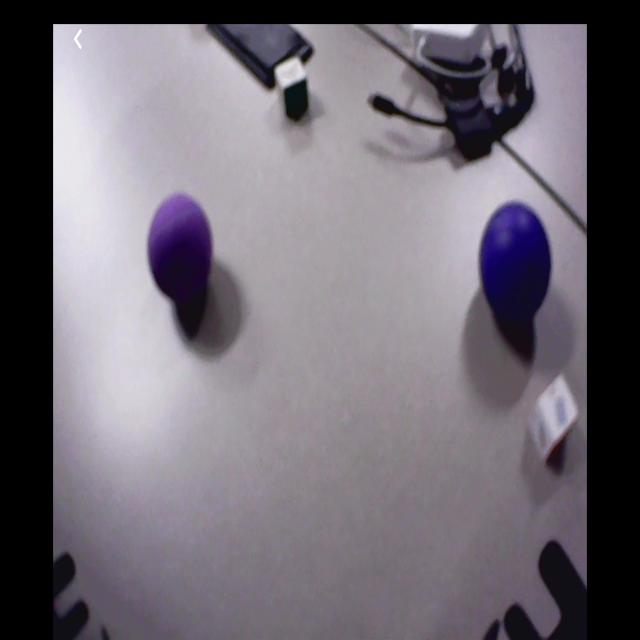ball: (483, 203, 551, 311), (149, 195, 213, 291)
